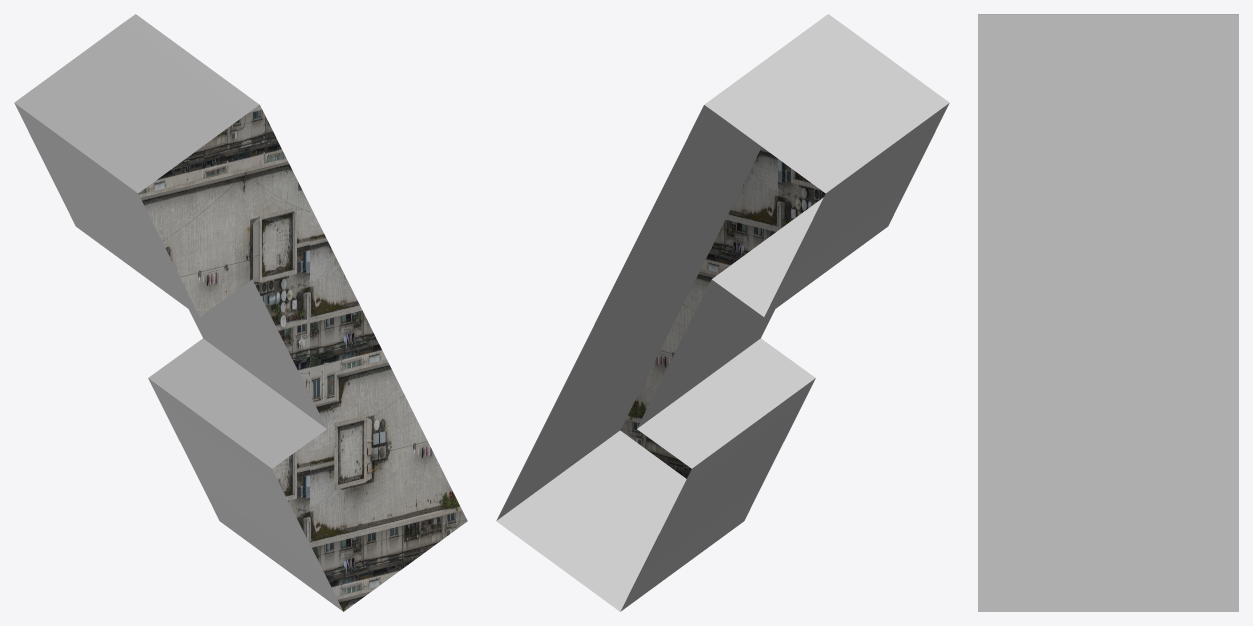
The model's file is geospecific_2437.obj.
3 renders of one model, left to right at view 1: azimuth 30°, elevation 25°; view 2: azimuth 150°, elevation 25°; view 3: azimuth 270°, elevation 25°, orthographic. The views are drawn at different scales.
Parts seen in each view (by area): view 1: Building; view 2: Building; view 3: Building.
Boxes of the visible parts, box(x1,y1,x2,y2) form: Building: box(14, 14, 467, 611); Building: box(496, 14, 949, 611); Building: box(978, 14, 1238, 611).
Bounding box in the file's own units: 13.8 × 21.11 × 9.
